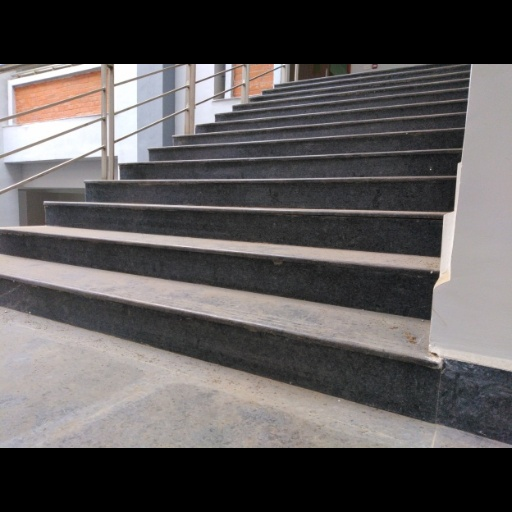Stairs: (0, 66, 469, 421)
